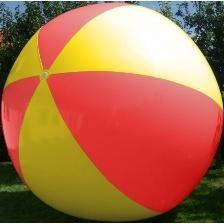Sports-Ball: (2, 2, 223, 223)
